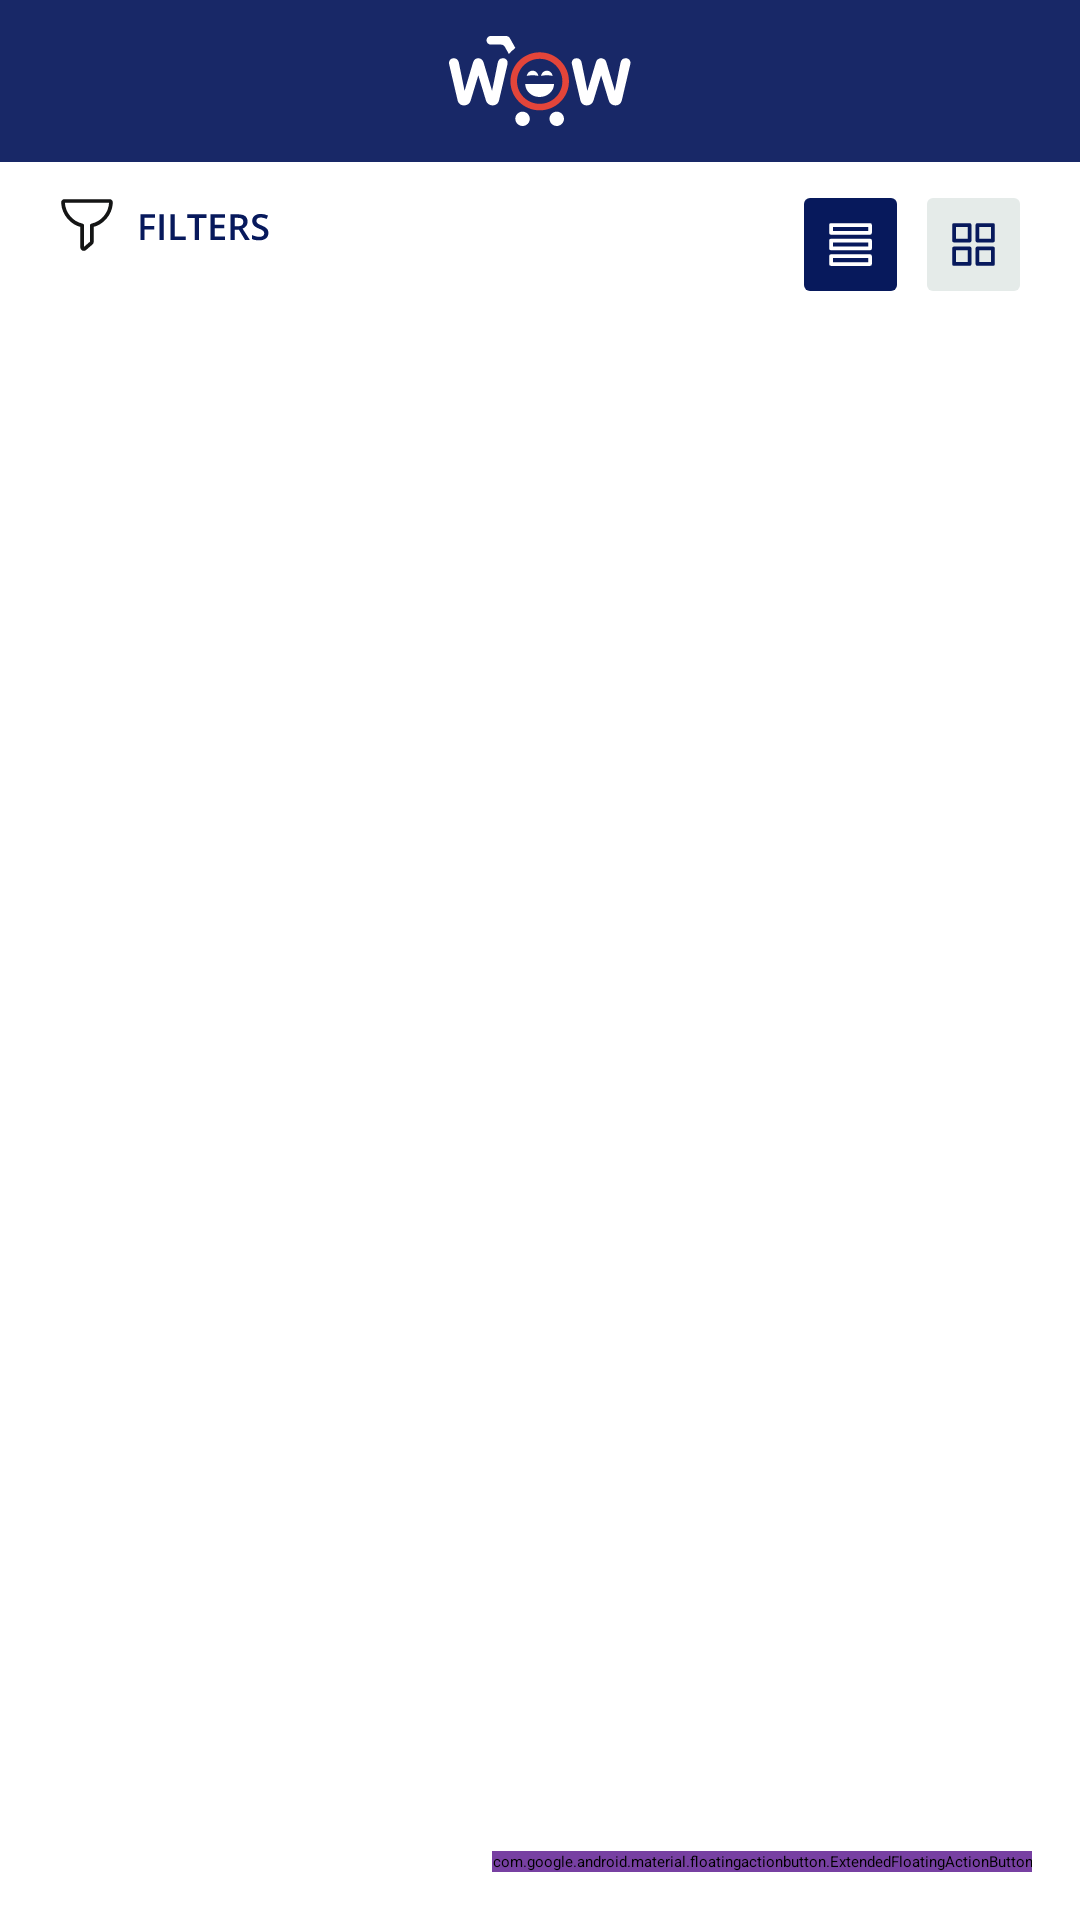

Icons on this 1080*1920 Android screen, each with the point to tap as (x=x, y=y):
view mode: (x=912, y=244)
